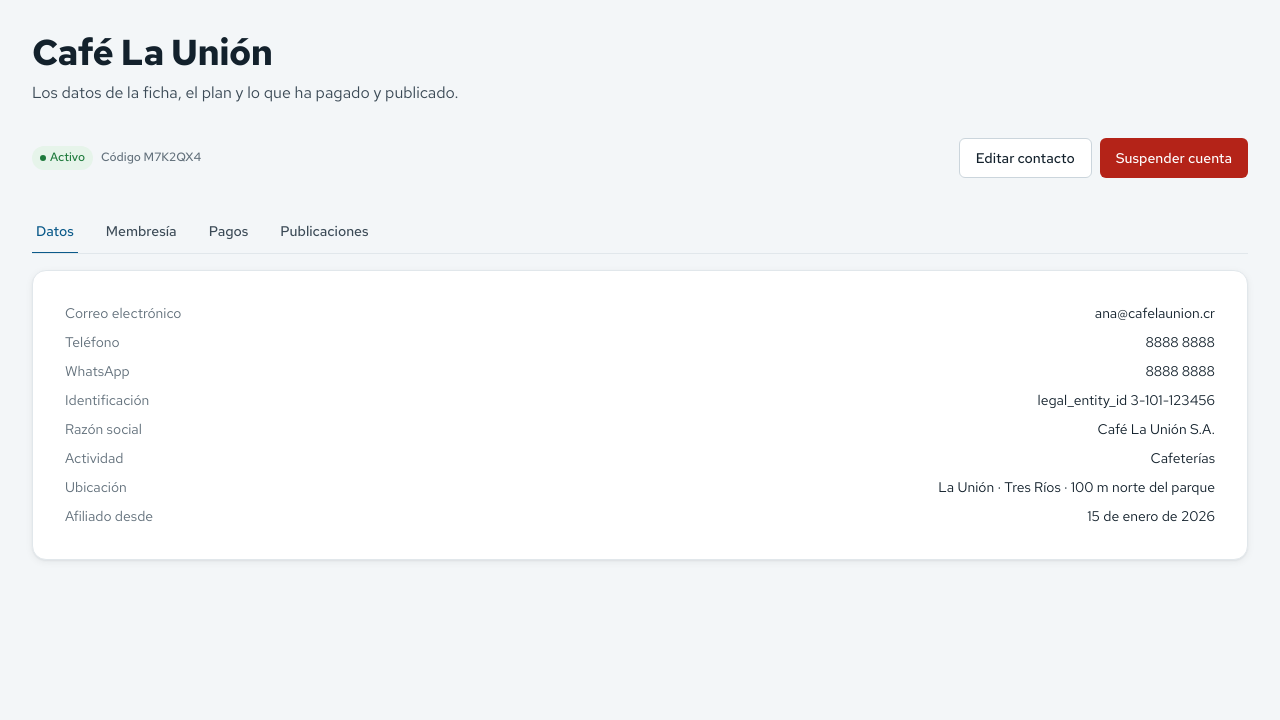
Scenario: MemberDetailPage › suspending asks for a reason before anything is sent
The width and height of the screenshot is (1280, 720).
Expected: the text "legal_entity_id 3-101-123456" is shown, top-left (1038, 390), bottom-right (1215, 411)
Click the button "Suspender cuenta" at point(1174, 158), box top-left (1100, 138), bottom-right (1248, 178)
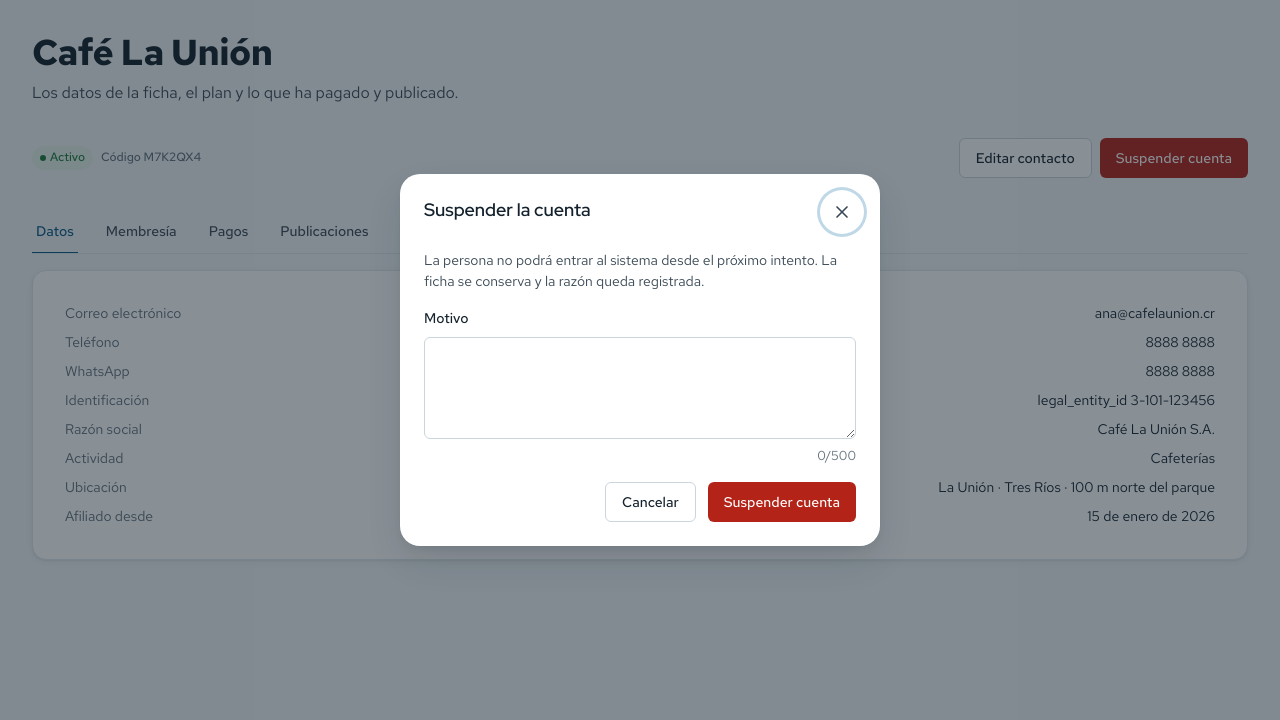
Type "Dejó de pagar dos cuotas seguidas." into the text box labelled "Motivo" at point(640, 388), box top-left (424, 337), bottom-right (856, 439)
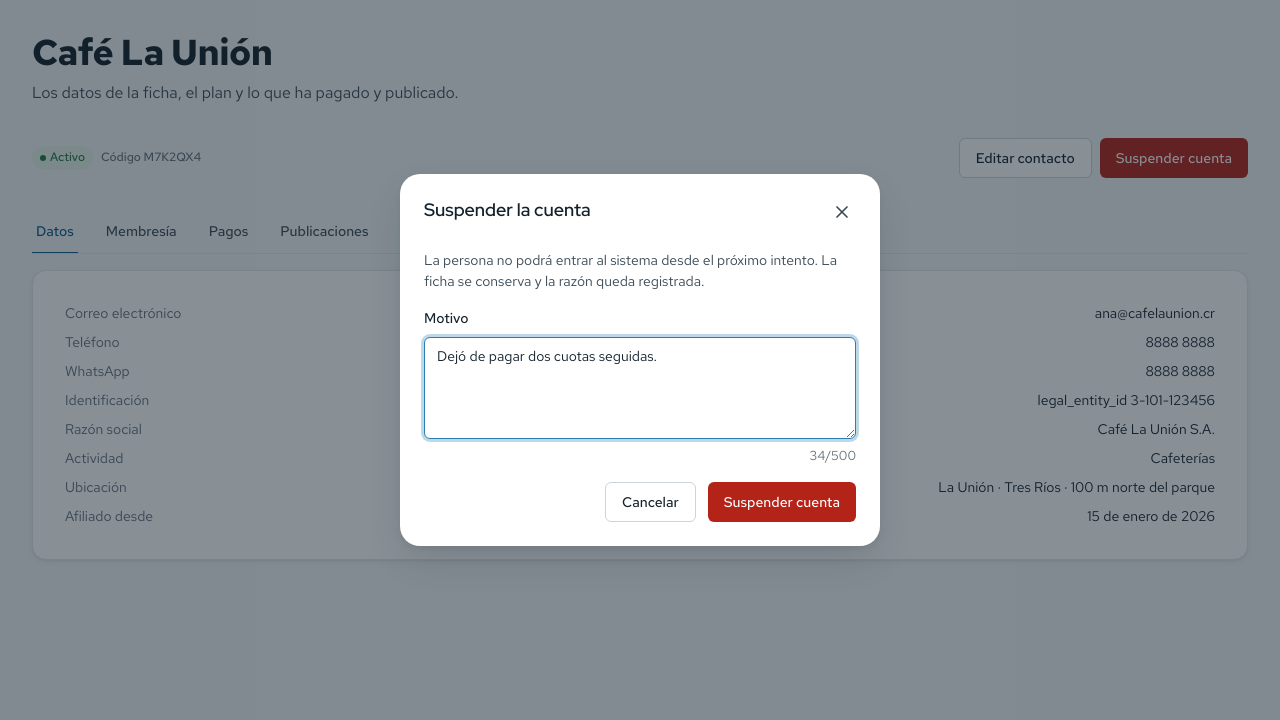
Click the button "Suspender cuenta" at point(782, 502), box top-left (708, 482), bottom-right (856, 522)
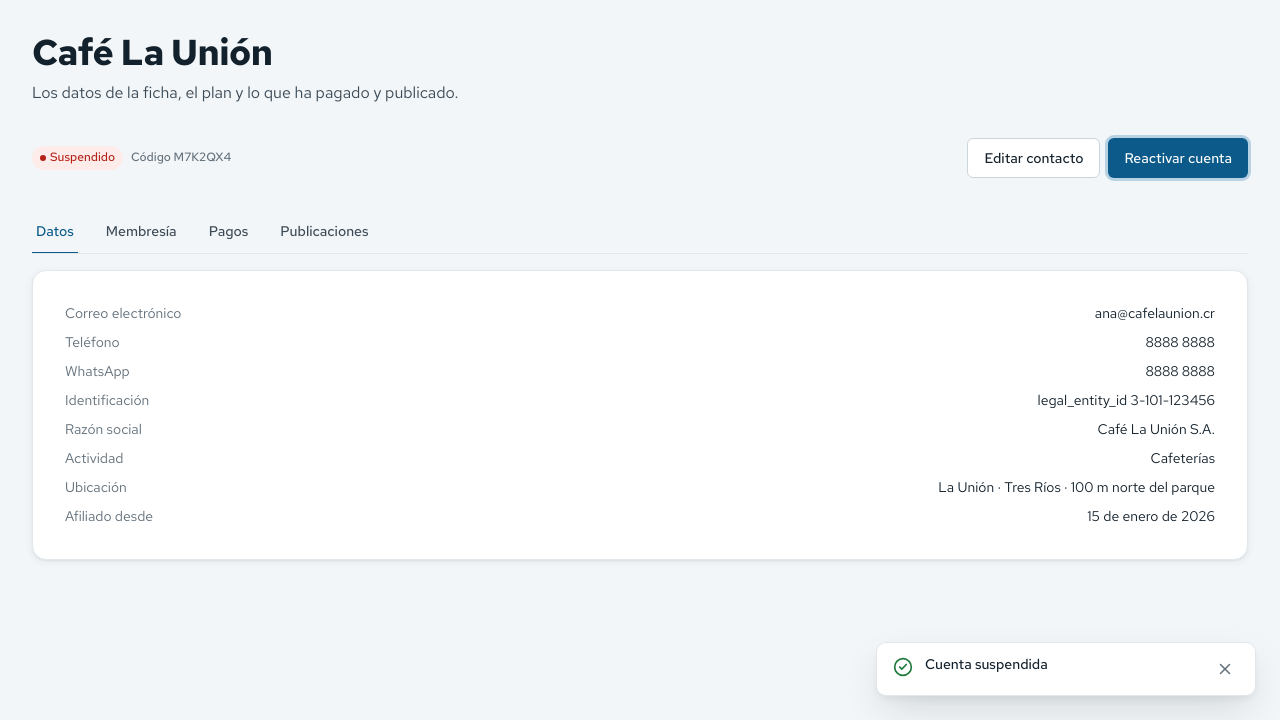
Expected: the text "Cuenta suspendida" is shown, top-left (925, 655), bottom-right (1048, 673)
